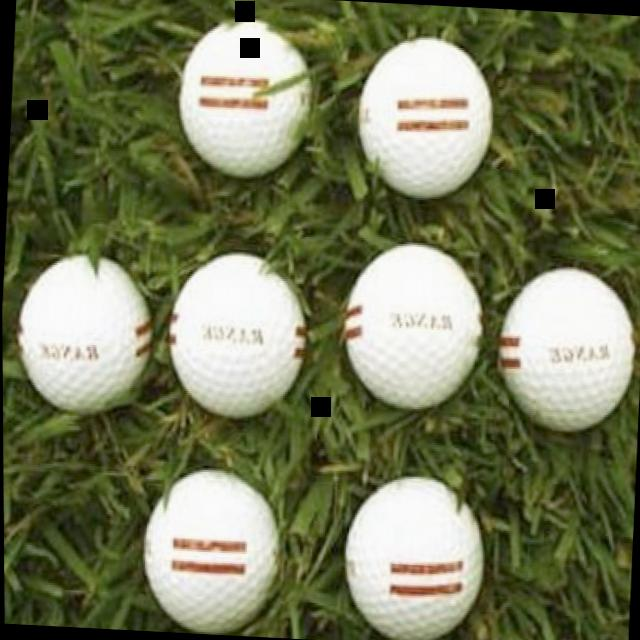golf ball: (3, 222, 151, 438), (159, 8, 320, 200), (330, 232, 491, 420), (345, 22, 499, 218), (158, 238, 311, 434), (135, 448, 286, 638), (330, 460, 489, 640), (490, 252, 638, 442)
